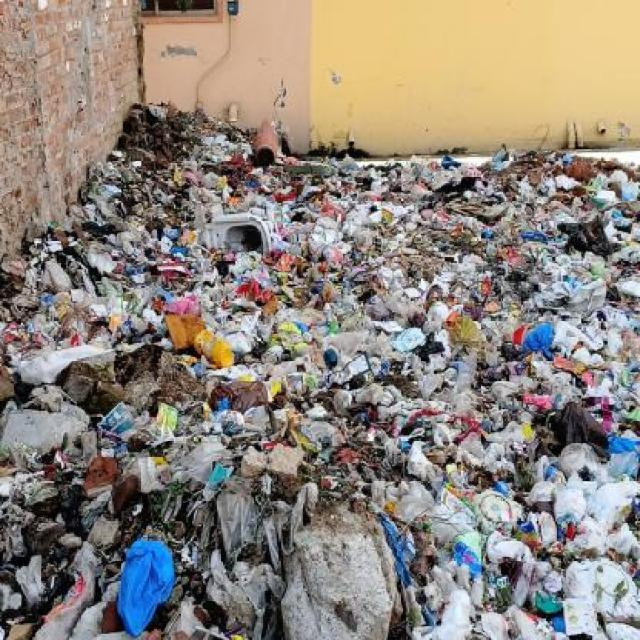garbage: (3, 76, 639, 640)
